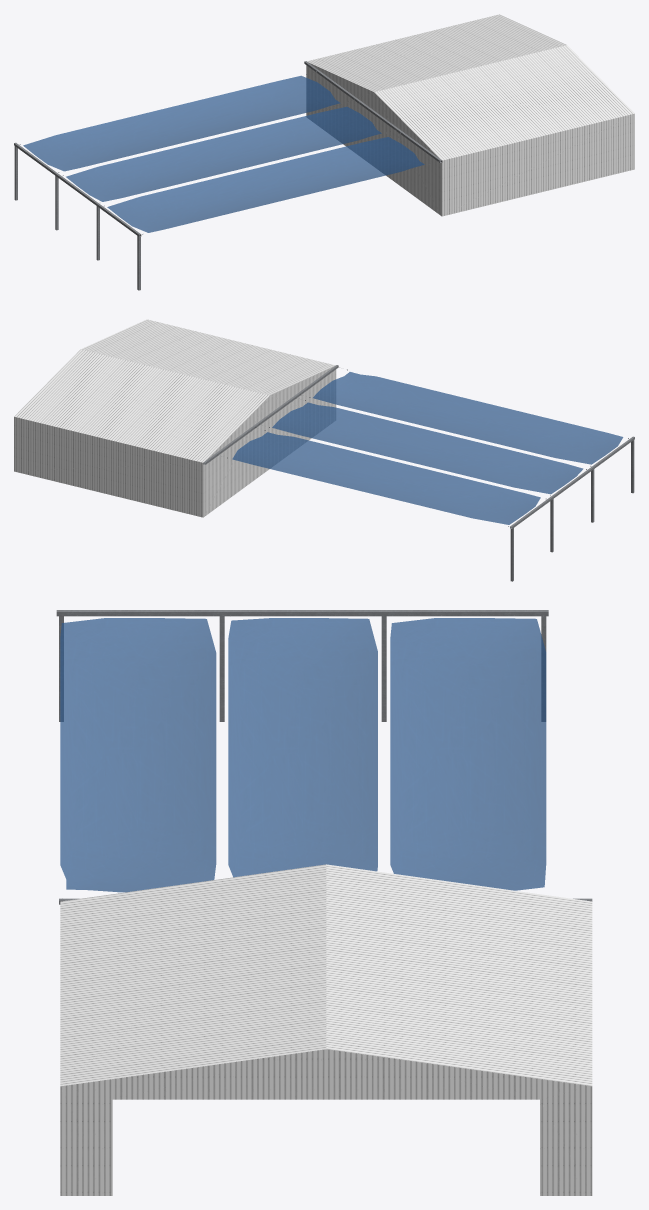
The model's file is ChimNirLargeHangar_Felix_LOD2.gltf.
The picture shows the model from 3 angles, top to bottom: view 1: azimuth 30°, elevation 25°; view 2: azimuth 150°, elevation 25°; view 3: azimuth 270°, elevation 25°; orthographic projection. The views are drawn at different scales.
Visible parts, largest first — view 1: node10, node9, node8; view 2: node10, node9, node8; view 3: node10, node9, node8.
Part boxes in pixels (x1,y1,x2,y2): node10: (306, 14, 634, 216); node9: (23, 75, 424, 232); node8: (14, 61, 442, 290); node10: (14, 319, 336, 517); node9: (232, 372, 623, 524); node8: (203, 365, 634, 581); node10: (60, 864, 592, 1195); node9: (60, 618, 546, 892); node8: (56, 610, 592, 904).
Size of the model in its own units: 46.3 by 6.66 by 22.05.
